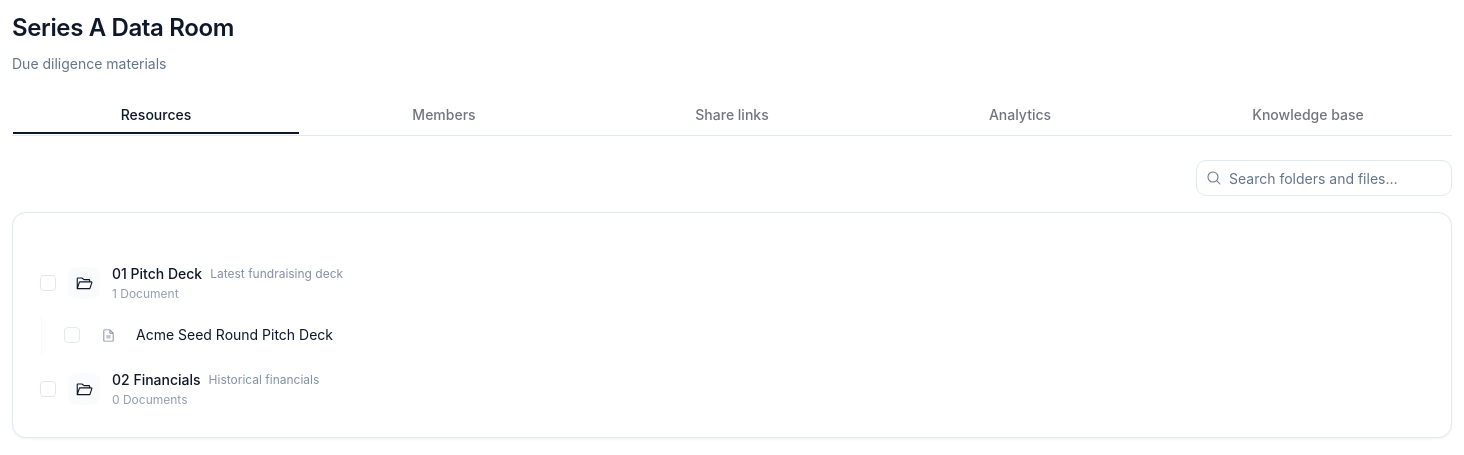
Test: DealRoomDetailPage › lets a room member upload from the folder tree without manage chrome
Check: the heading "Series A Data Room" is shown, box x1=12 y1=13 x2=234 y2=42
Click the checkbox named "02 Financials" at [48, 389], box x1=40 y1=381 x2=56 y2=397
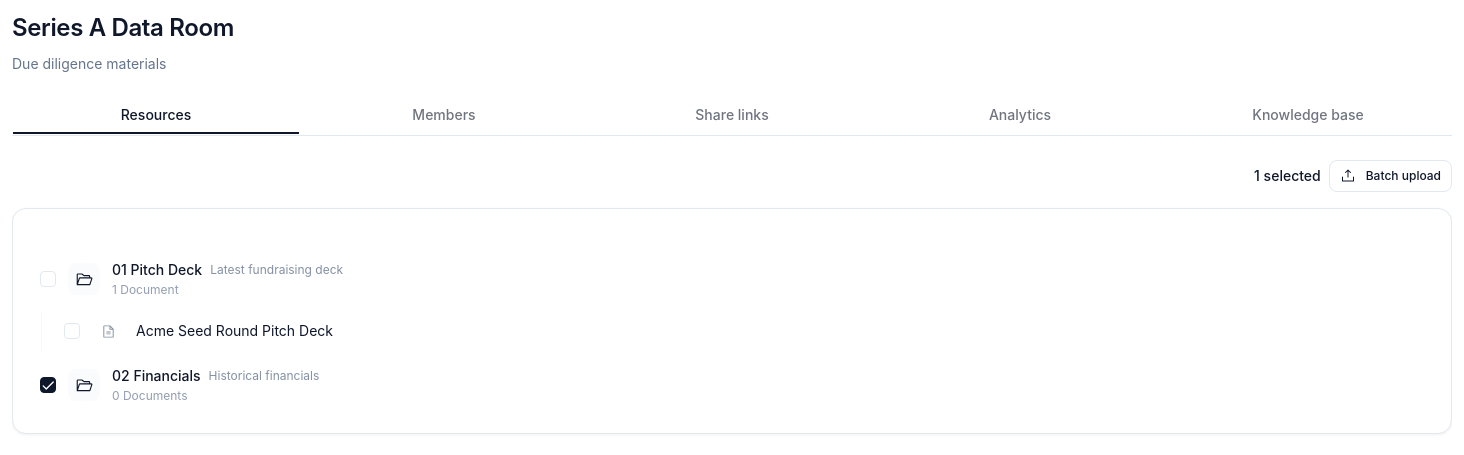
Check: the button with test id "folder-tree-bulk-upload" is shown, box x1=1329 y1=160 x2=1452 y2=192
